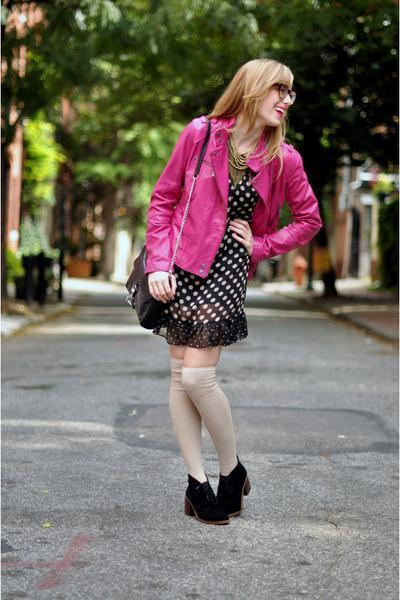bag: (126, 252, 165, 334)
dress: (147, 148, 265, 348)
jacket: (143, 108, 321, 275)
shoe: (185, 468, 245, 524)
sunglass: (267, 80, 295, 107)
